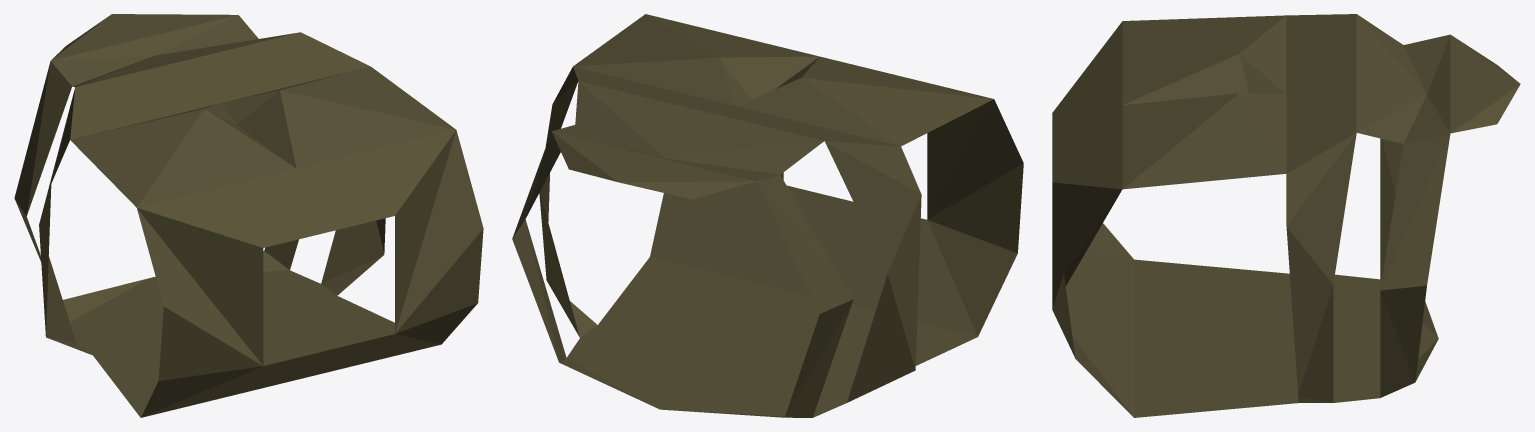
File: inv_leather_body.obj
The picture shows the model from 3 angles, left to right: view 1: azimuth 30°, elevation 25°; view 2: azimuth 150°, elevation 25°; view 3: azimuth 270°, elevation 25°; orthographic projection. The views are drawn at different scales.
Size of the model in its own units: 0.2812 by 0.1953 by 0.3125.
